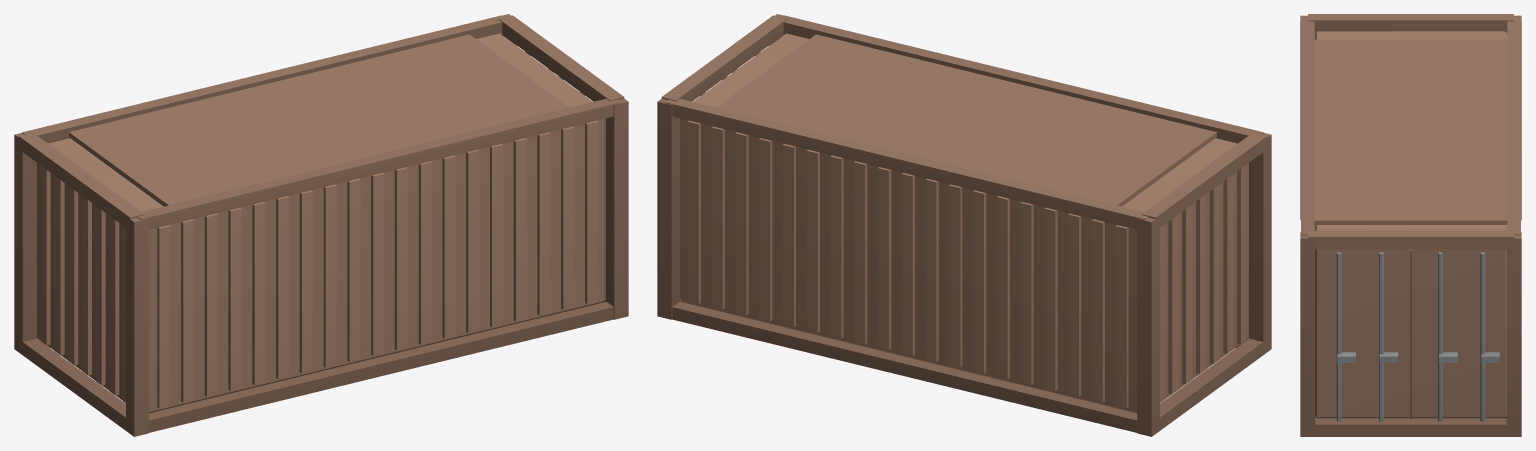
File: mil_container_rust.glb
3 renders of one model, left to right at view 1: azimuth 30°, elevation 25°; view 2: azimuth 150°, elevation 25°; view 3: azimuth 270°, elevation 25°, orthographic. The views are drawn at different scales.
Visible parts, largest first — view 1: mil_container_rust; view 2: mil_container_rust; view 3: mil_container_rust.
Part boxes in pixels (<box>): mil_container_rust: <box>14,14,628,436</box>; mil_container_rust: <box>657,14,1271,436</box>; mil_container_rust: <box>1300,14,1521,436</box>.
Size of the model in its own units: 6.31 by 2.61 by 2.62.
